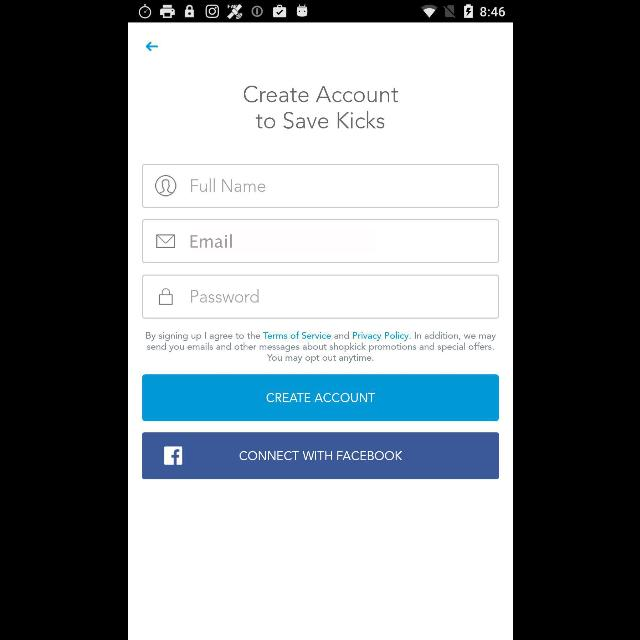icon: (154, 175, 176, 197), (158, 288, 172, 306), (156, 235, 174, 248), (145, 42, 157, 52)
input: (142, 275, 498, 319), (142, 219, 498, 263), (142, 164, 498, 208)
text: (146, 331, 494, 363), (243, 85, 397, 128), (191, 178, 265, 192), (190, 289, 258, 303), (189, 235, 231, 248)
textbutton: (142, 432, 498, 480), (142, 374, 498, 422)
uppertaskbar: (128, 1, 512, 23)
